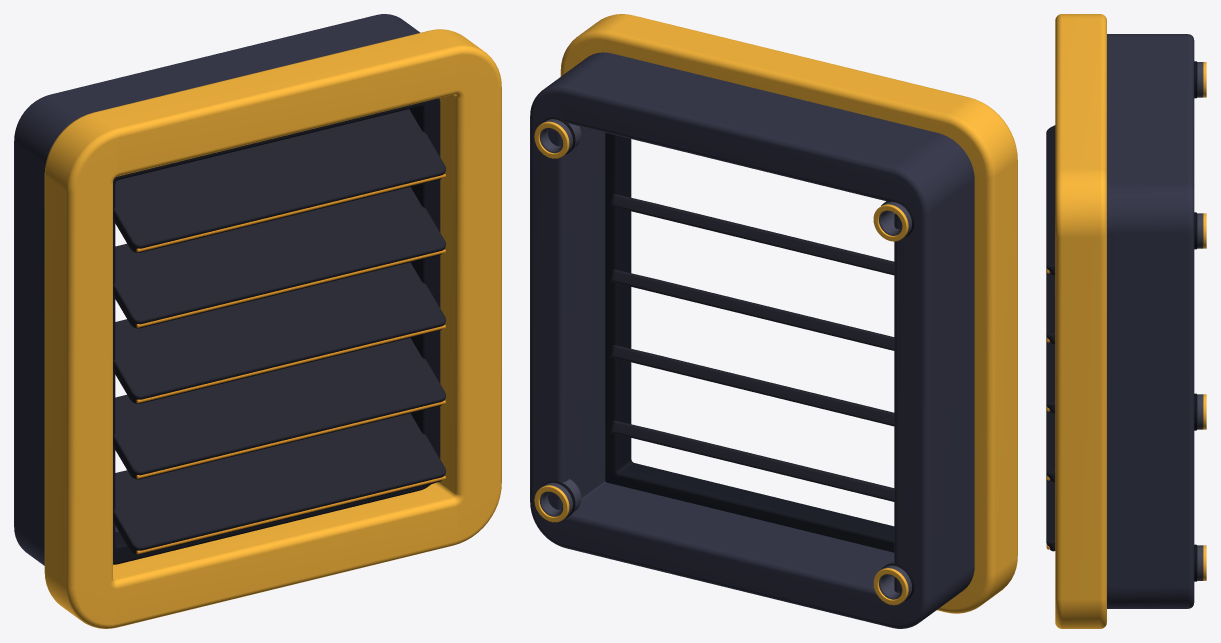
File: VentGrille.glb
3 renders of one model, left to right at view 1: azimuth 30°, elevation 25°; view 2: azimuth 150°, elevation 25°; view 3: azimuth 270°, elevation 25°, orthographic. The views are drawn at different scales.
Parts seen in each view (by area): view 1: GoldRoundedFrontFrame, DarkMountHousing, DarkAngledLouver5, DarkAngledLouver3, DarkAngledLouver4, DarkAngledLouver1, DarkAngledLouver2, InnerShadowFrame, GoldLouverLip3, GoldLouverLip1, GoldLouverLip5, GoldLouverLip4 (+1 smaller); view 2: DarkMountHousing, GoldRoundedFrontFrame, InnerShadowFrame, DarkAngledLouver1, DarkAngledLouver3, DarkAngledLouver4, DarkAngledLouver2, RearMountSocket (×2); view 3: DarkMountHousing, GoldRoundedFrontFrame, DarkAngledLouver5, RearMountSocket (×4), DarkAngledLouver1, DarkAngledLouver2, DarkAngledLouver3, DarkAngledLouver4.
Part boxes in pixels (bbox=[...]): GoldRoundedFrontFrame: bbox=[44, 29, 501, 628]; DarkMountHousing: bbox=[14, 14, 433, 565]; DarkAngledLouver5: bbox=[113, 109, 445, 252]; DarkAngledLouver3: bbox=[113, 262, 445, 403]; DarkAngledLouver4: bbox=[113, 187, 445, 328]; DarkAngledLouver1: bbox=[113, 413, 445, 554]; DarkAngledLouver2: bbox=[113, 338, 445, 479]; InnerShadowFrame: bbox=[113, 98, 440, 564]; GoldLouverLip3: bbox=[136, 324, 445, 403]; GoldLouverLip1: bbox=[136, 475, 445, 554]; GoldLouverLip5: bbox=[136, 173, 445, 252]; GoldLouverLip4: bbox=[136, 249, 445, 327]; DarkMountHousing: bbox=[530, 52, 974, 628]; GoldRoundedFrontFrame: bbox=[560, 14, 1017, 613]; InnerShadowFrame: bbox=[605, 132, 894, 552]; DarkAngledLouver1: bbox=[610, 420, 894, 501]; DarkAngledLouver3: bbox=[610, 269, 894, 350]; DarkAngledLouver4: bbox=[610, 194, 894, 275]; DarkAngledLouver2: bbox=[610, 345, 894, 426]; RearMountSocket (×2): bbox=[540, 119, 581, 517]; DarkMountHousing: bbox=[1107, 34, 1194, 608]; GoldRoundedFrontFrame: bbox=[1055, 14, 1106, 628]; DarkAngledLouver5: bbox=[1046, 125, 1055, 275]; RearMountSocket (×4): bbox=[1197, 62, 1203, 580]; DarkAngledLouver1: bbox=[1046, 474, 1055, 551]; DarkAngledLouver2: bbox=[1046, 406, 1055, 482]; DarkAngledLouver3: bbox=[1046, 337, 1055, 413]; DarkAngledLouver4: bbox=[1046, 268, 1055, 344].
Size of the model in its own units: 0.62 by 0.68 by 0.2172.
7 materials, 7 textured.
